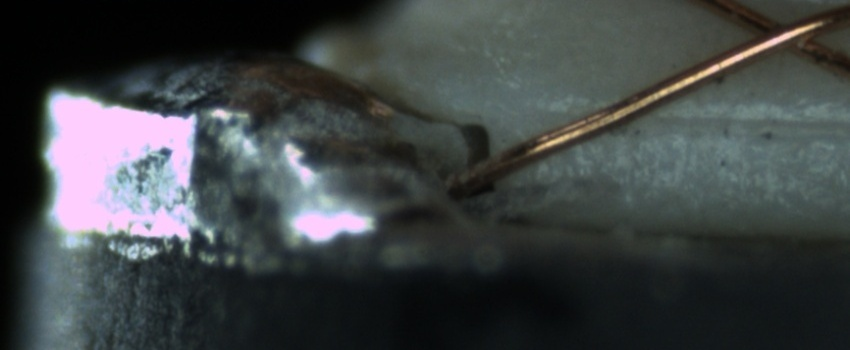CL: (716, 2, 844, 66)
DL: (551, 87, 846, 151)
